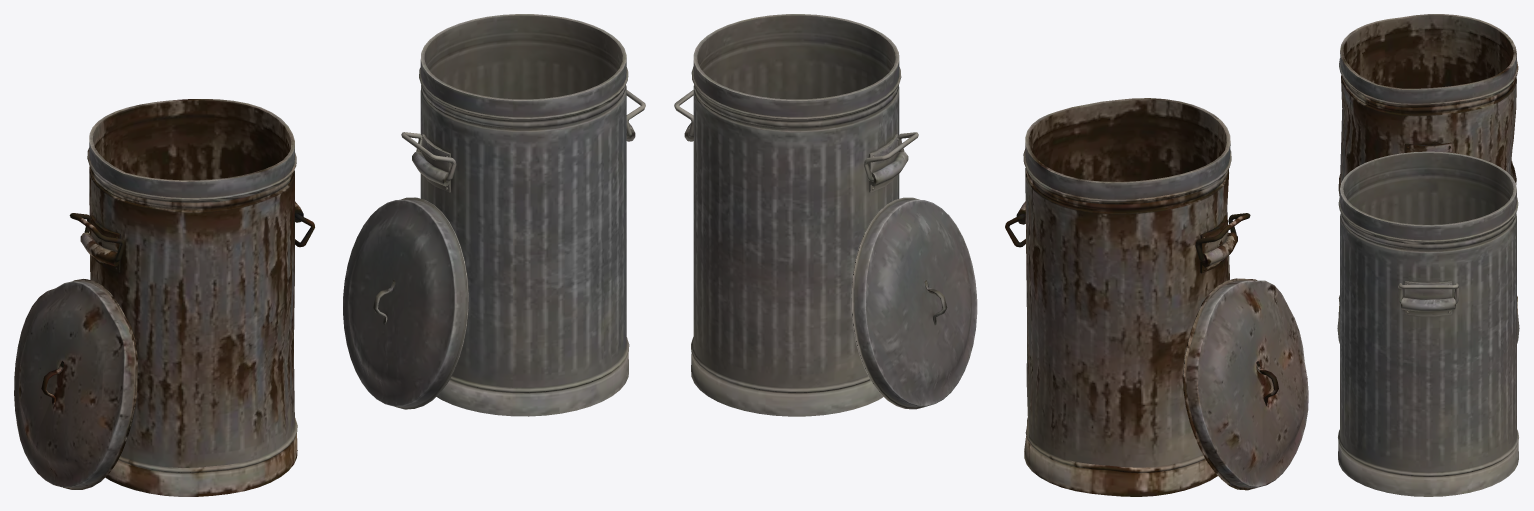
Rendered from metal_trash_can.glb.
3 views of the same model, side by side, from view 1: azimuth 30°, elevation 25°; view 2: azimuth 150°, elevation 25°; view 3: azimuth 270°, elevation 25° (orthographic). The views are drawn at different scales.
Visible parts, largest first — view 1: metal_trash_can_handle_left, metal_trash_can_rust; view 2: metal_trash_can_handle_left, metal_trash_can_rust; view 3: metal_trash_can_handle_left, metal_trash_can_rust.
Part boxes in pixels (box(x1,y1,x2,y2)): metal_trash_can_handle_left: box(343, 14, 645, 416); metal_trash_can_rust: box(14, 99, 314, 496); metal_trash_can_handle_left: box(674, 14, 977, 416); metal_trash_can_rust: box(1005, 98, 1308, 496); metal_trash_can_handle_left: box(1337, 151, 1519, 496); metal_trash_can_rust: box(1338, 14, 1518, 316).
Size of the model in its own units: 1.78 by 0.9062 by 0.5543.
Materials: 2 (2 with a texture image).
